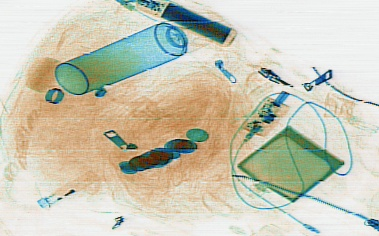lighter: (35, 164, 101, 211)
pressure: (53, 19, 212, 95)
